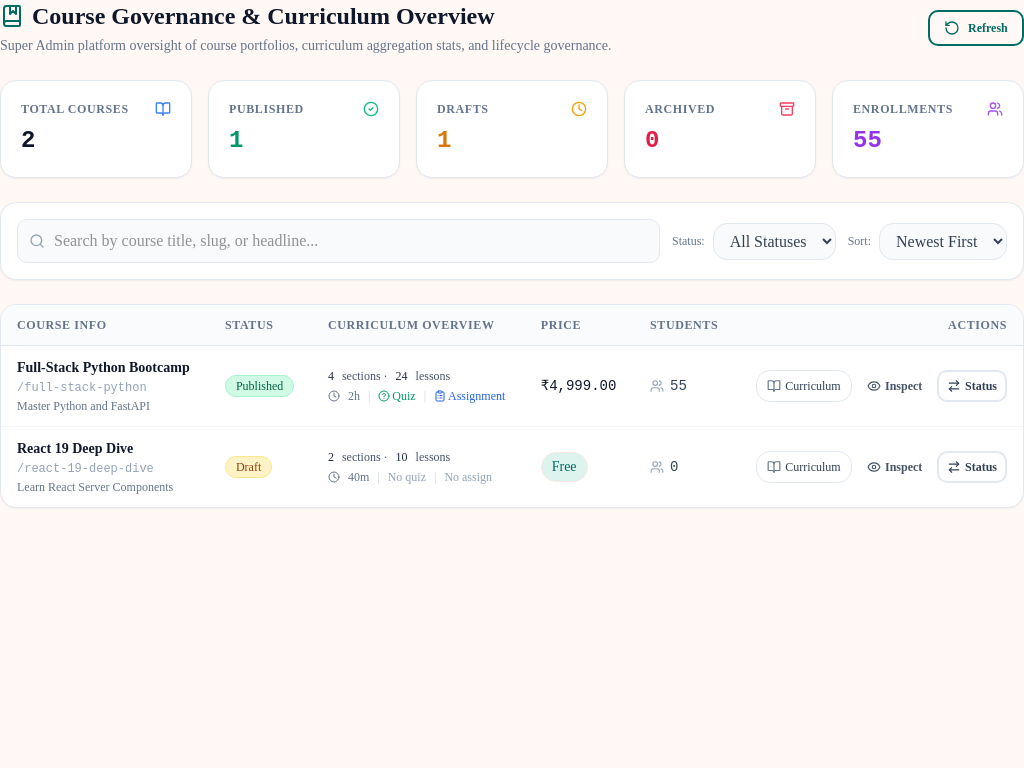
it: Course Governance Page (SA-04.1) › opens inspection modal on clicking Inspect button
Expected: the text "Full-Stack Python Bootcamp" is shown, [17,358,193,378]
Click the button "Inspect" in the row of "Full-Stack Python Bootcamp" at (894, 386), box [858,370,931,402]
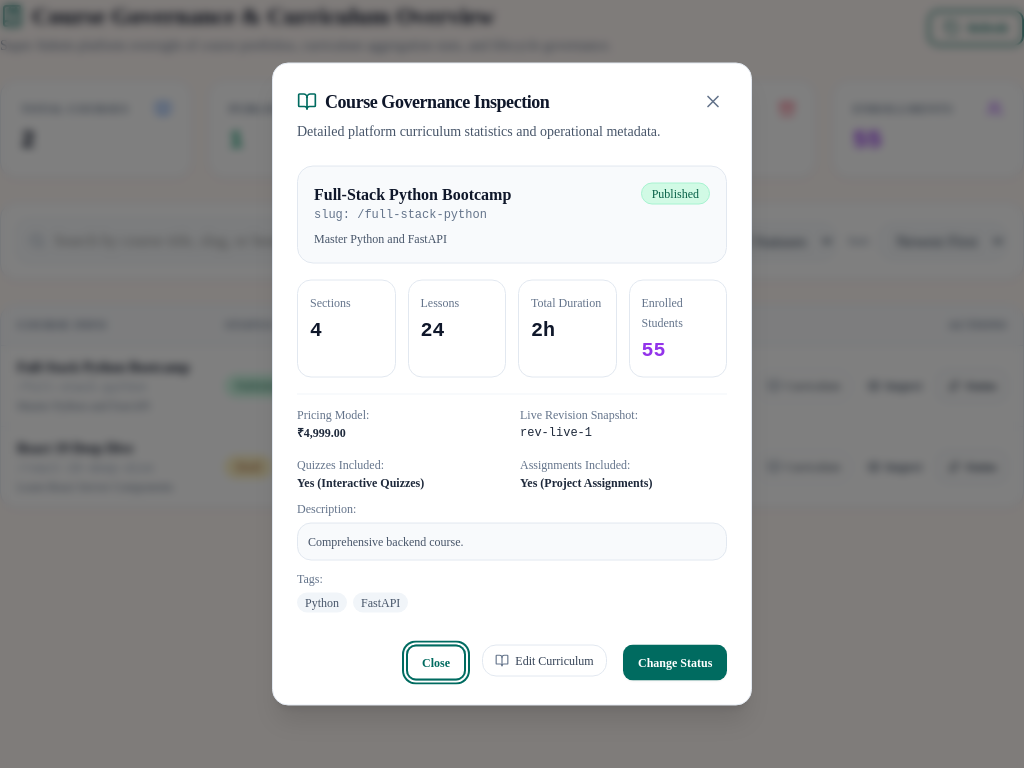
Result: the heading "Course Governance Inspection" is shown at [297,92,549,112]
Result: the text "Comprehensive backend course." is shown at [297,522,727,560]
Result: the text "Yes (Interactive Quizzes)" is shown at [297,476,424,490]
